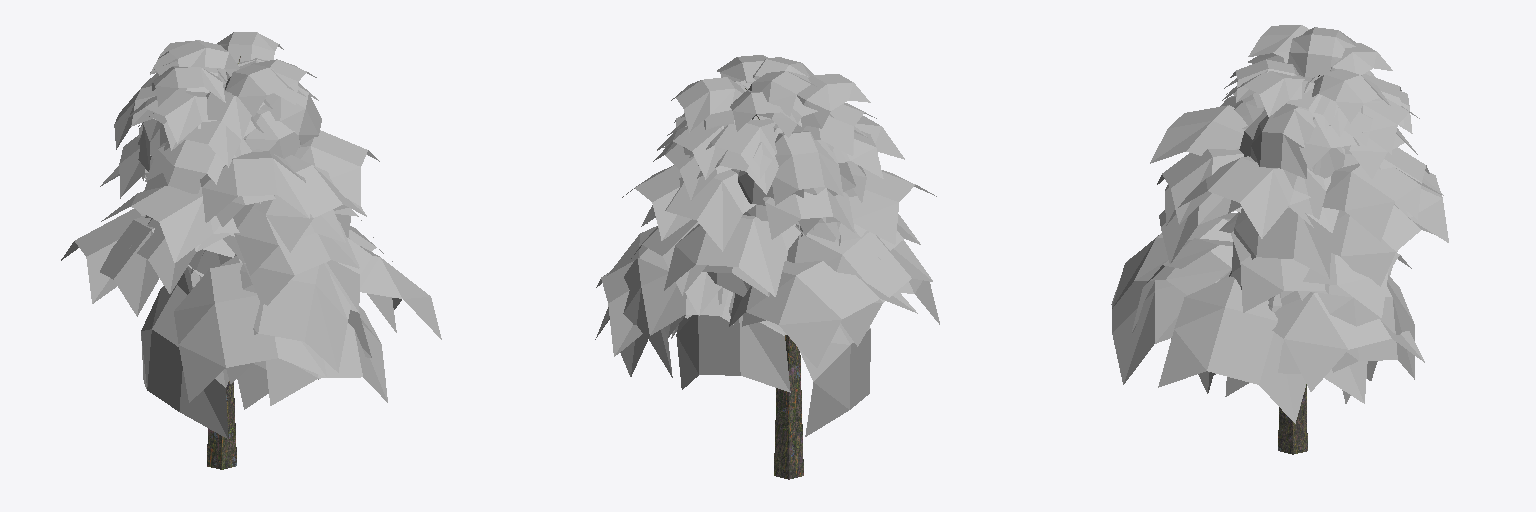
3 renders of one model, left to right at view 1: azimuth 30°, elevation 25°; view 2: azimuth 150°, elevation 25°; view 3: azimuth 270°, elevation 25°, orthographic.
Visible parts, largest first — view 1: Default; view 2: Default; view 3: Default.
Boxes of the visible parts, box(x1,y1,x2,y2) form: Default: box(61, 32, 441, 469); Default: box(595, 55, 939, 479); Default: box(1111, 25, 1448, 454).
Bounding box in the file's own units: 12.68 × 15.81 × 11.82.
2 materials, 1 textured.